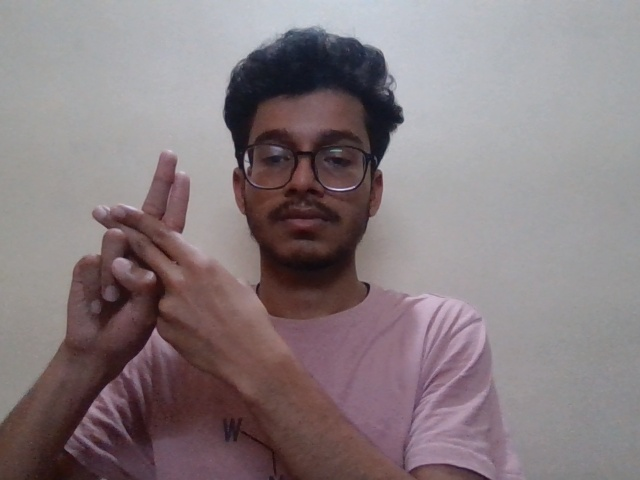disabled: (35, 152, 310, 407)
